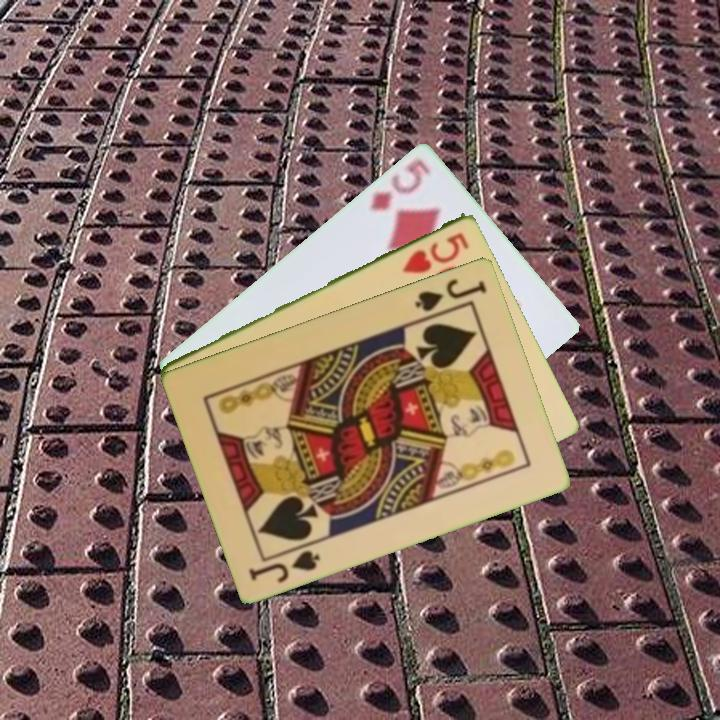5d: (366, 154, 434, 214)
5h: (399, 228, 472, 276)
Js: (245, 539, 324, 586), (411, 274, 490, 314)
